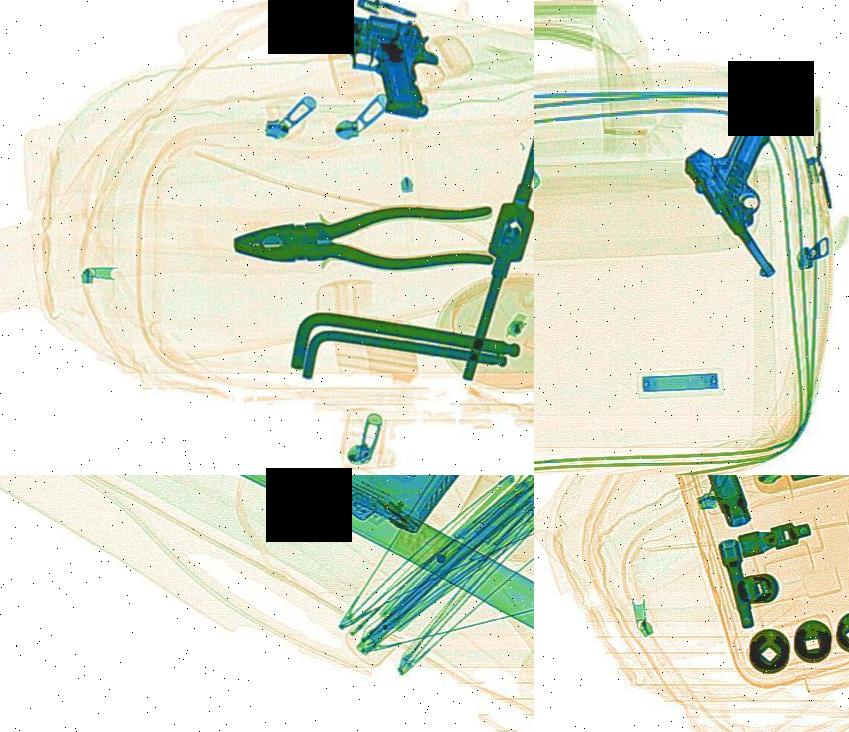Gun: (680, 85, 831, 285), (241, 0, 460, 117)
Pliers: (229, 200, 502, 278)
